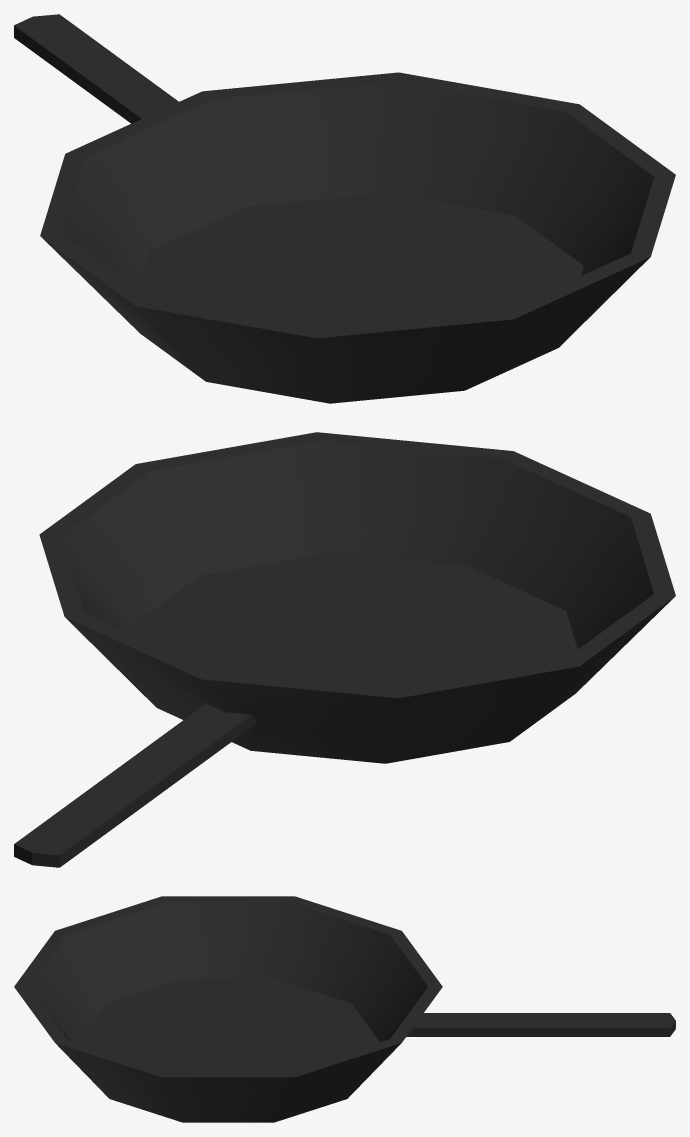
File: Frying_Pan.fbx
The picture shows the model from 3 angles, top to bottom: view 1: azimuth 30°, elevation 25°; view 2: azimuth 150°, elevation 25°; view 3: azimuth 270°, elevation 25°; orthographic projection. The views are drawn at different scales.
Visible parts, largest first — view 1: Frying_Pan; view 2: Frying_Pan; view 3: Frying_Pan.
Part boxes in pixels (x1,y1,x2,y2): Frying_Pan: [14, 14, 675, 403]; Frying_Pan: [14, 432, 675, 867]; Frying_Pan: [14, 896, 675, 1122].
Size of the model in its own units: 0.4101 by 0.0778 by 0.6331.
